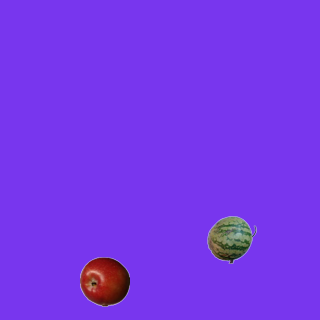Apple Braeburn: (79, 256, 129, 306)
Watermelon: (206, 214, 256, 264)
